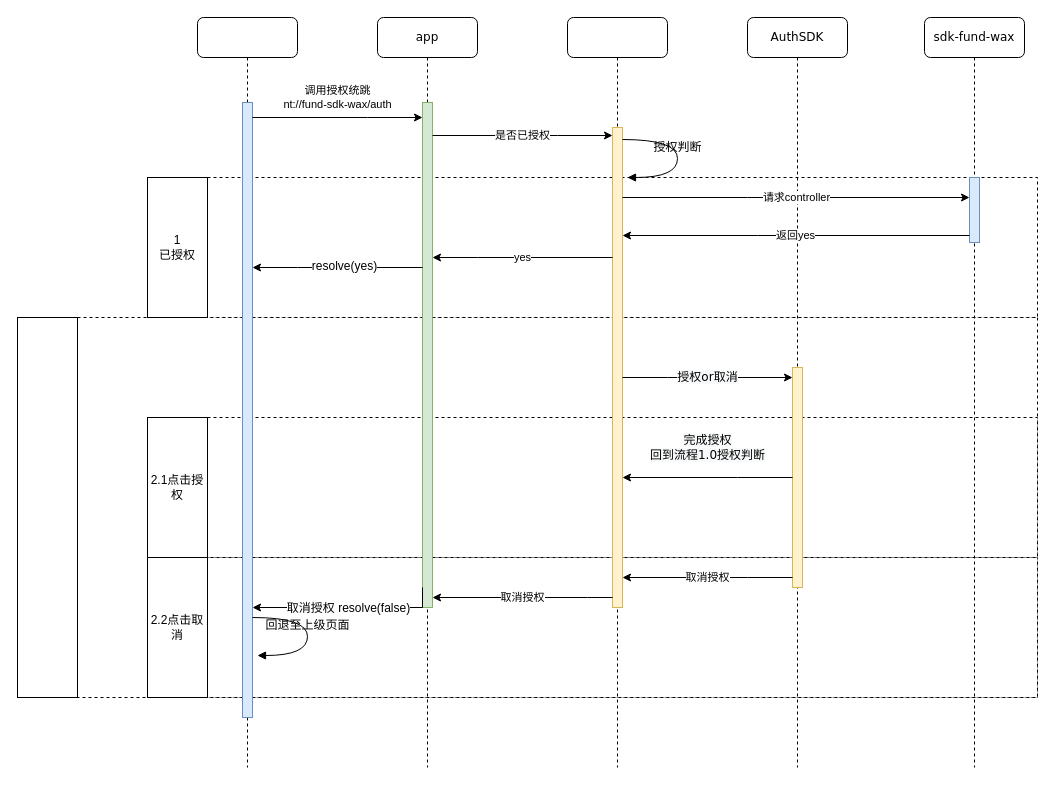
Some shapes in this 1055 by 785 pixel diagram are drawn without their labels. The box of each missing label's shape, as (x1, y1, x2, y2) in pixels:
2 未授权: (16, 316, 78, 698)
h5: (196, 16, 298, 768)
Neutron: (566, 16, 668, 768)
